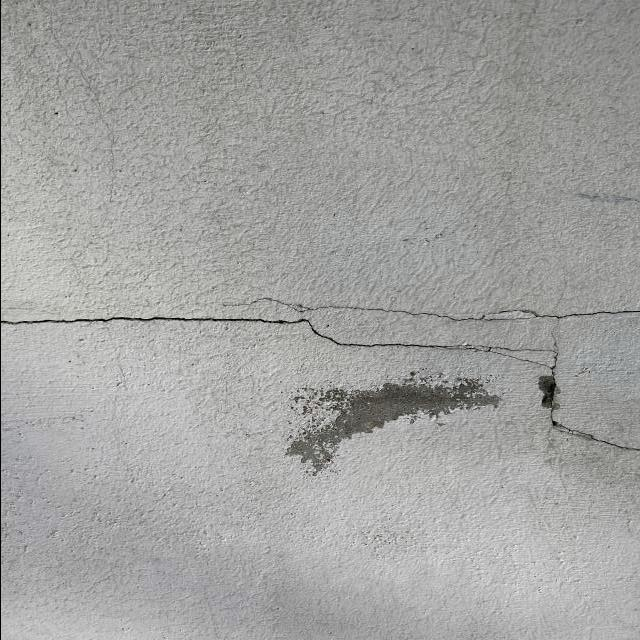SurfaceCrack: (0, 263, 635, 389)
